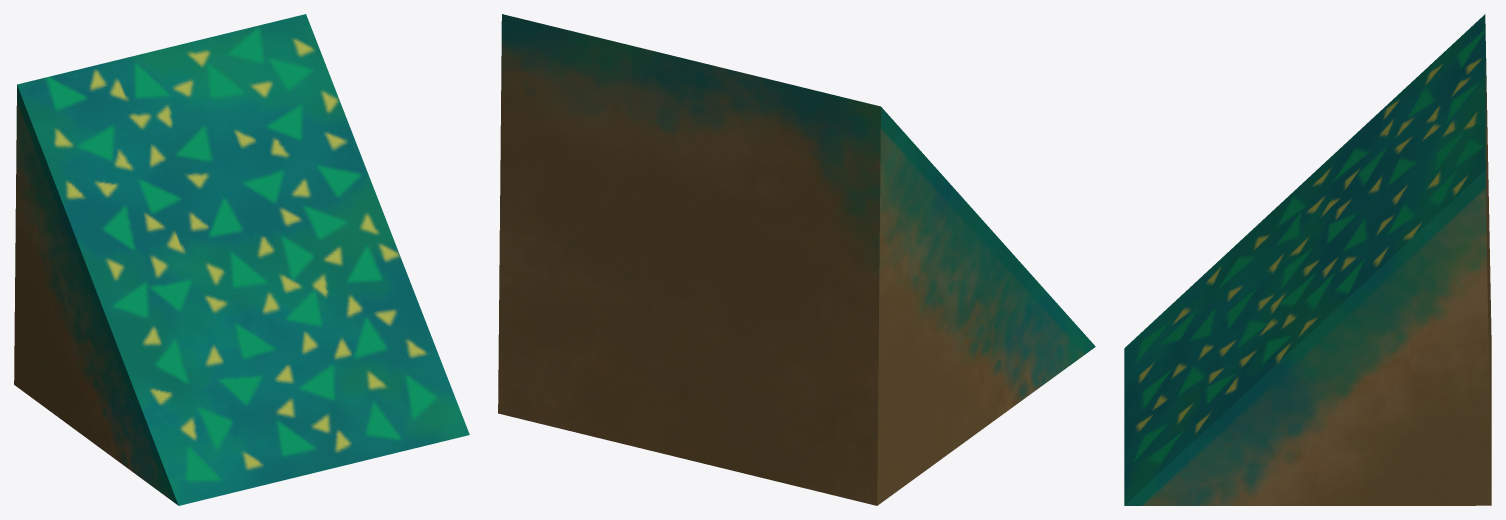
The model's file is grass_slope_block.fbx.
3 renders of one model, left to right at view 1: azimuth 30°, elevation 25°; view 2: azimuth 150°, elevation 25°; view 3: azimuth 270°, elevation 25°, orthographic. The views are drawn at different scales.
Visible parts, largest first — view 1: grass_slope_block; view 2: grass_slope_block; view 3: grass_slope_block.
Boxes of the visible parts, left/top/right/bottom form: grass_slope_block: left=14, top=14, right=469, bottom=505; grass_slope_block: left=498, top=14, right=1095, bottom=505; grass_slope_block: left=1124, top=14, right=1491, bottom=505.
Size of the model in its own units: 10.13 by 10.05 by 9.99.
Materials: 1 (1 with a texture image).
